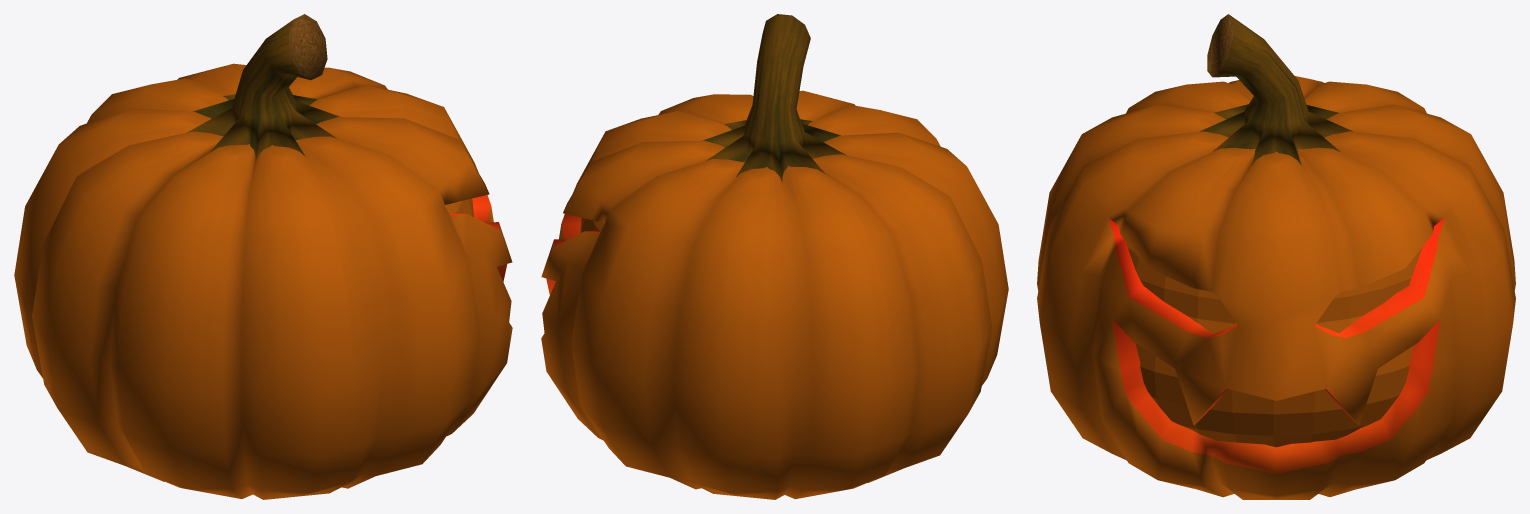
The model's file is Jack-O-Lantern.fbx.
3 renders of one model, left to right at view 1: azimuth 30°, elevation 25°; view 2: azimuth 150°, elevation 25°; view 3: azimuth 270°, elevation 25°, orthographic. The views are drawn at different scales.
Parts seen in each view (by area): view 1: Jack-O-Lanturn; view 2: Jack-O-Lanturn; view 3: Jack-O-Lanturn.
Boxes of the visible parts, <box> form: Jack-O-Lanturn: <box>14,14,512,499</box>; Jack-O-Lanturn: <box>541,14,1008,499</box>; Jack-O-Lanturn: <box>1037,14,1515,499</box>.
Bounding box in the file's own units: 175 × 182 × 174.
